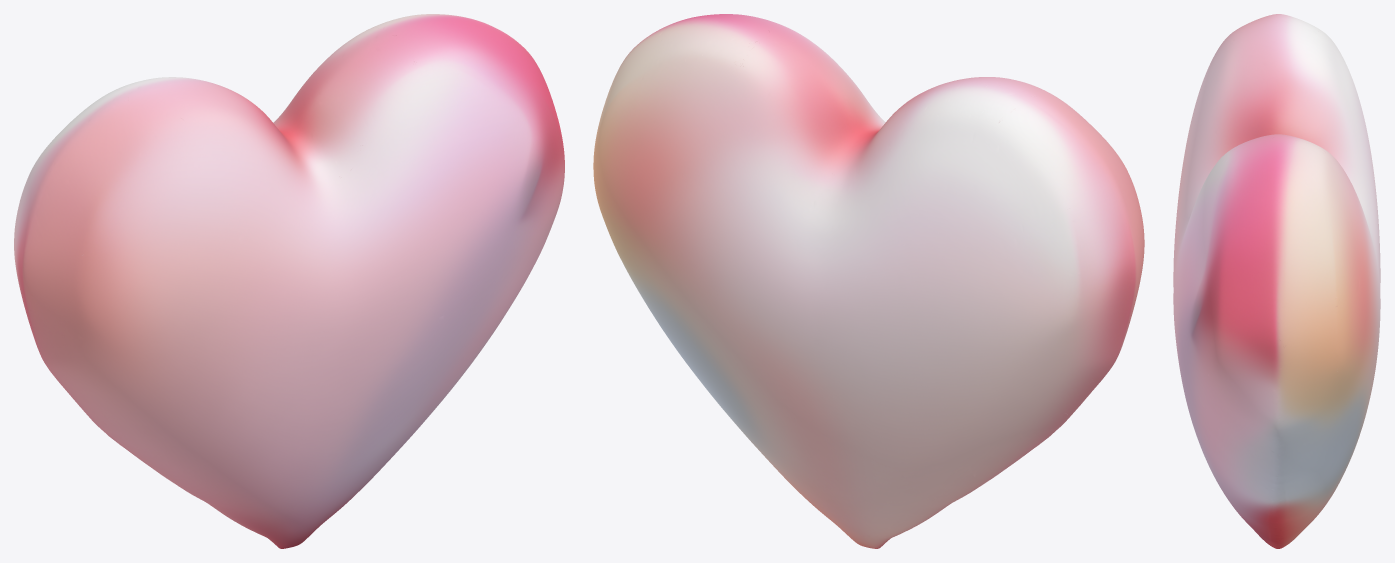
File: heart_shaded.glb
The picture shows the model from 3 angles, left to right: view 1: azimuth 30°, elevation 25°; view 2: azimuth 150°, elevation 25°; view 3: azimuth 270°, elevation 25°; orthographic projection. The views are drawn at different scales.
Visible parts, largest first — view 1: model; view 2: model; view 3: model.
Part boxes in pixels (x1,y1,x2,y2): model: (14, 14, 564, 548); model: (593, 14, 1144, 548); model: (1173, 14, 1380, 548).
Size of the model in its own units: 1.9 by 1.68 by 0.6852.
1 material, 1 textured.
